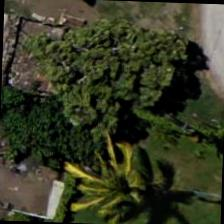Kelapa_Sawit: (72, 140, 166, 223)
